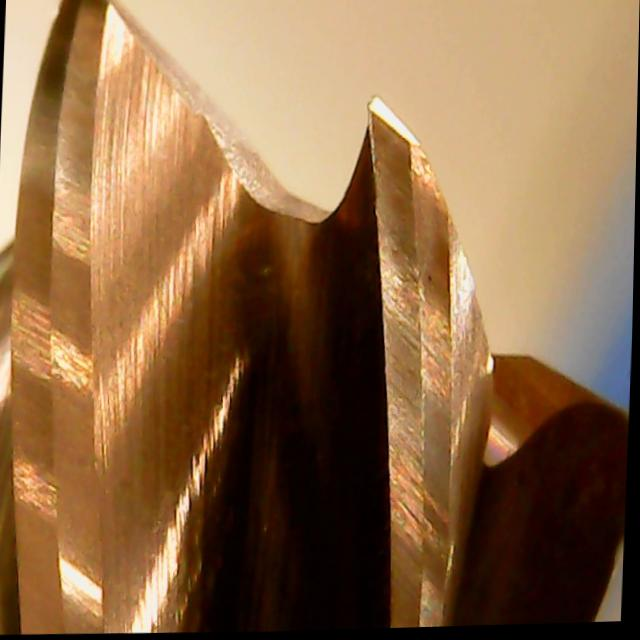Tool-wear-class-0: (343, 89, 481, 378)
